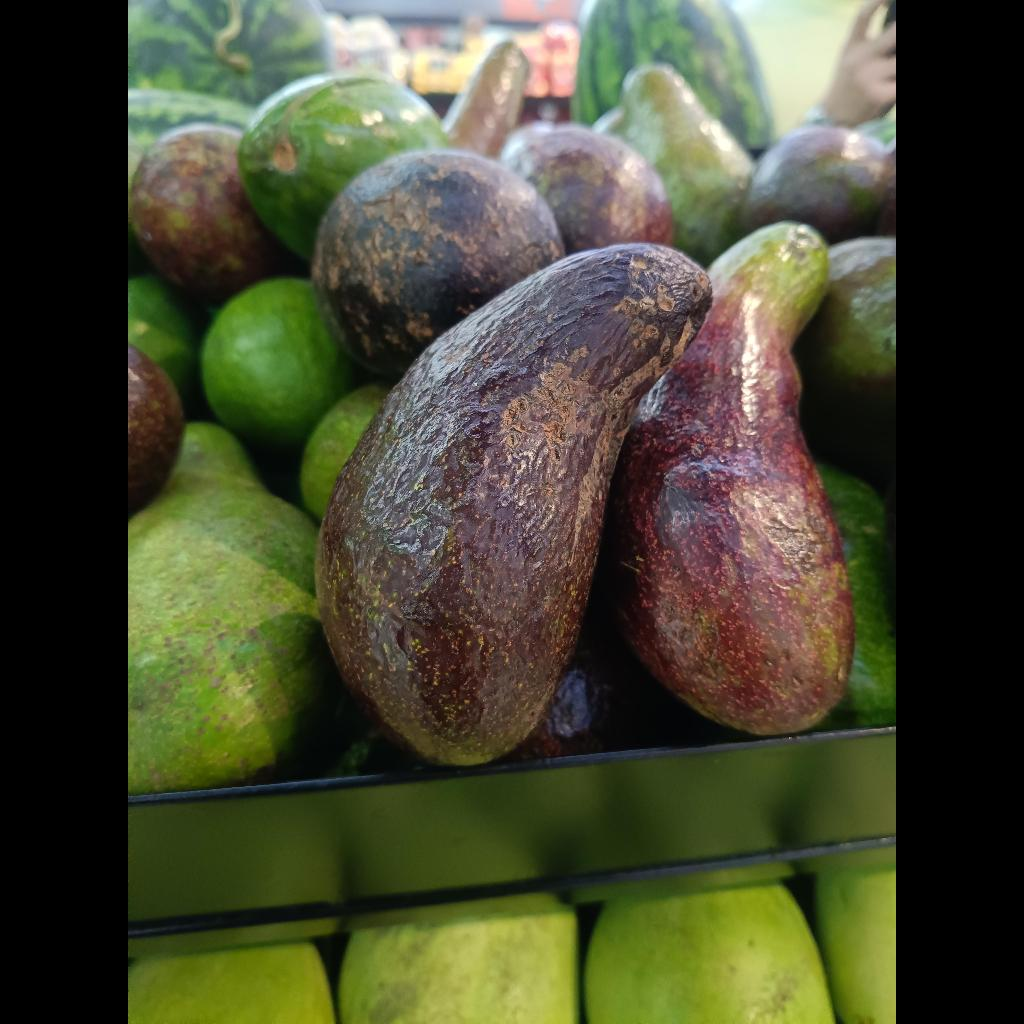rona: (316, 243, 712, 766)
